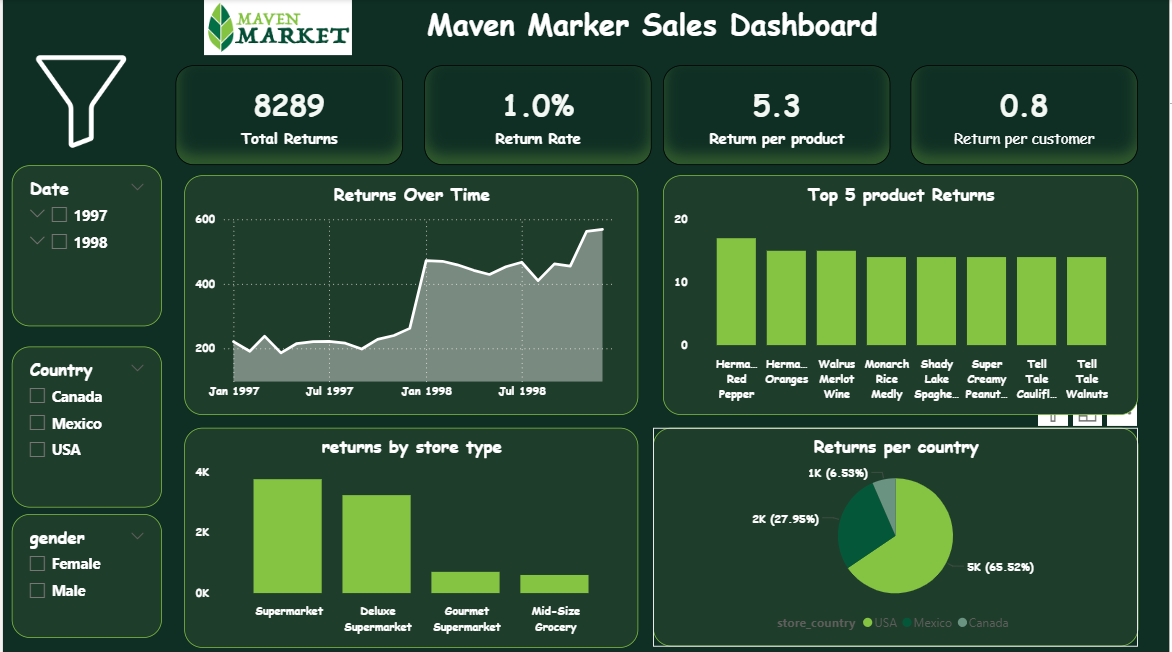

The page's visual inventory and layout, read from the dashboard file:
{"tool":"powerbi","page":{"name":"Returns","canvas":[1280,720],"ordinal":3},"visuals":[{"type":"card","fields":{"Values":["Measur Table.Total Returns"]},"box":[189.4,72.7,249.7,109.8],"z":0},{"type":"card","fields":{"Values":["Measur Table.Return Rate"]},"box":[462.4,72.7,249.7,109.8],"z":1000},{"type":"card","fields":{"Values":["Measur Table.Return per product"]},"box":[724.5,72.7,249.7,109.8],"z":2000},{"type":"card","fields":{"Values":["Measur Table.Return per customer"]},"box":[996.2,72.7,249.7,109.8],"z":3000},{"type":"textbox","box":[164.7,0,1096.4,72.7],"z":4000},{"type":"image","box":[183.9,0,236,61.7],"z":5000},{"type":"lineChart","title":"Returns Over Time","fields":{"Category":["MavenMarket_Calendar.date.Variation.Date Hierarchy.Year","MavenMarket_Calendar.date.Variation.Date Hierarchy.Quarter","MavenMarket_Calendar.date.Variation.Date Hierarchy.Month","MavenMarket_Calendar.date.Variation.Date Hierarchy.Day"],"Y":["Measur Table.Total Returns"]},"box":[199,193.5,498.1,263.5],"z":6000},{"type":"columnChart","title":"returns by store type","fields":{"Y":["Measur Table.Total Returns"],"Category":["MavenMarket_Stores.store_type"]},"box":[199,470.7,498.1,241.5],"z":7000},{"type":"pieChart","title":"Returns per country","fields":{"Category":["MavenMarket_Stores.store_country"],"Y":["Measur Table.Total Returns"]},"box":[713.6,470.7,532.4,240.1],"z":8000},{"type":"slicer","fields":{"Values":["MavenMarket_Calendar.date.Variation.Date Hierarchy.Year","MavenMarket_Calendar.date.Variation.Date Hierarchy.Quarter","MavenMarket_Calendar.date.Variation.Date Hierarchy.Month","MavenMarket_Calendar.date.Variation.Date Hierarchy.Day"]},"box":[9.6,182.5,164.7,177],"z":9000},{"type":"slicer","fields":{"Values":["MavenMarket_Stores.store_country"]},"box":[9.6,381.5,164.7,177],"z":10000},{"type":"image","box":[9.6,61.7,155.1,101.5],"z":11000},{"type":"slicer","fields":{"Values":["MavenMarket_Customers.gender"]},"box":[9.6,565.4,164.7,135.8],"z":12000},{"type":"columnChart","title":"Top 5 product Returns","fields":{"Category":["MavenMarket_Products.product_name"],"Y":["Measur Table.Total Returns"]},"box":[724.5,193.5,521.4,263.5],"z":13000}]}

Visuals, with their boxes in screenshot pixels (x1, y1, x2, y2), scaled from the page's 1280x720 canvas onto the 1172x652 screenshot:
card - Measur Table.Total Returns: detection(173, 66, 402, 165)
card - Measur Table.Return Rate: detection(423, 66, 652, 165)
card - Measur Table.Return per product: detection(663, 66, 892, 165)
card - Measur Table.Return per customer: detection(912, 66, 1141, 165)
textbox: detection(151, 0, 1155, 66)
image: detection(168, 0, 384, 56)
"Returns Over Time" lineChart: detection(182, 175, 638, 414)
"returns by store type" columnChart: detection(182, 426, 638, 645)
"Returns per country" pieChart: detection(653, 426, 1141, 644)
slicer - MavenMarket_Calendar.date.Variation.Date Hierarchy.Year x MavenMarket_Calendar.date.Variation.Date Hierarchy.Quarter: detection(9, 165, 160, 326)
slicer - MavenMarket_Stores.store_country: detection(9, 345, 160, 506)
image: detection(9, 56, 151, 148)
slicer - MavenMarket_Customers.gender: detection(9, 512, 160, 635)
"Top 5 product Returns" columnChart: detection(663, 175, 1141, 414)
